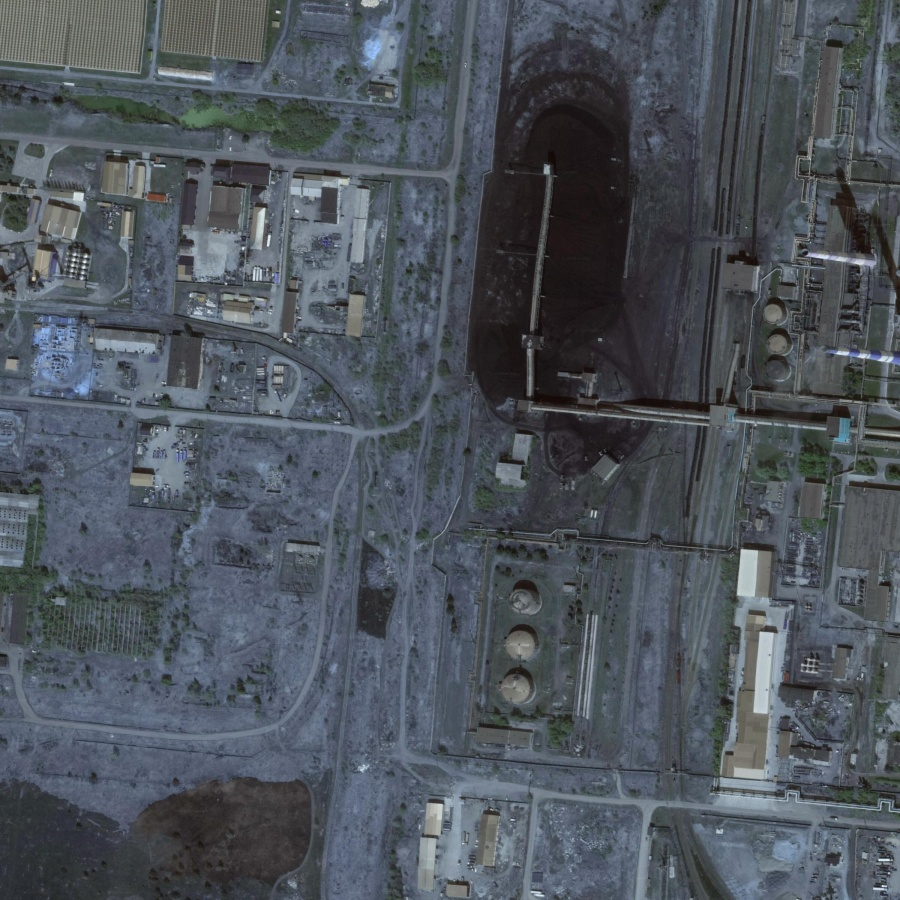PowerPlant: (458, 69, 776, 478), (460, 522, 608, 764)
